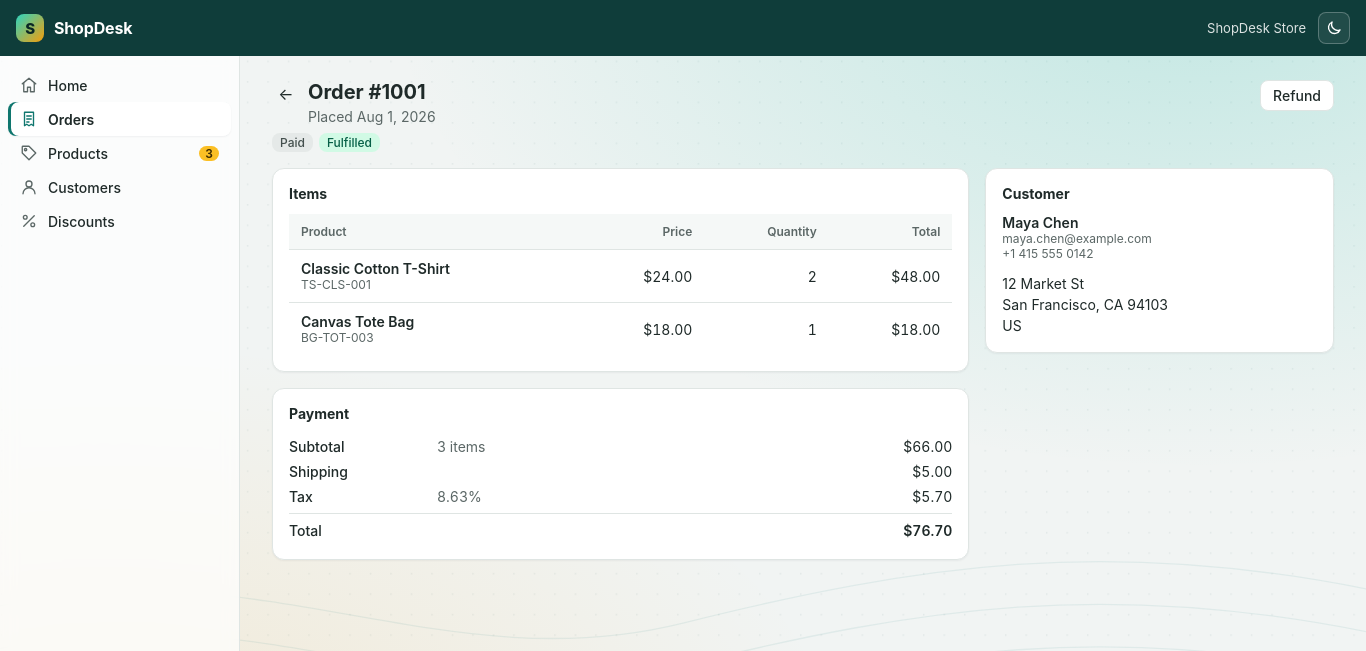
Test: refunding an order › blocks refunding more items than were ordered
Click the button "Refund" at (1297, 96), box [1260, 80, 1334, 111]
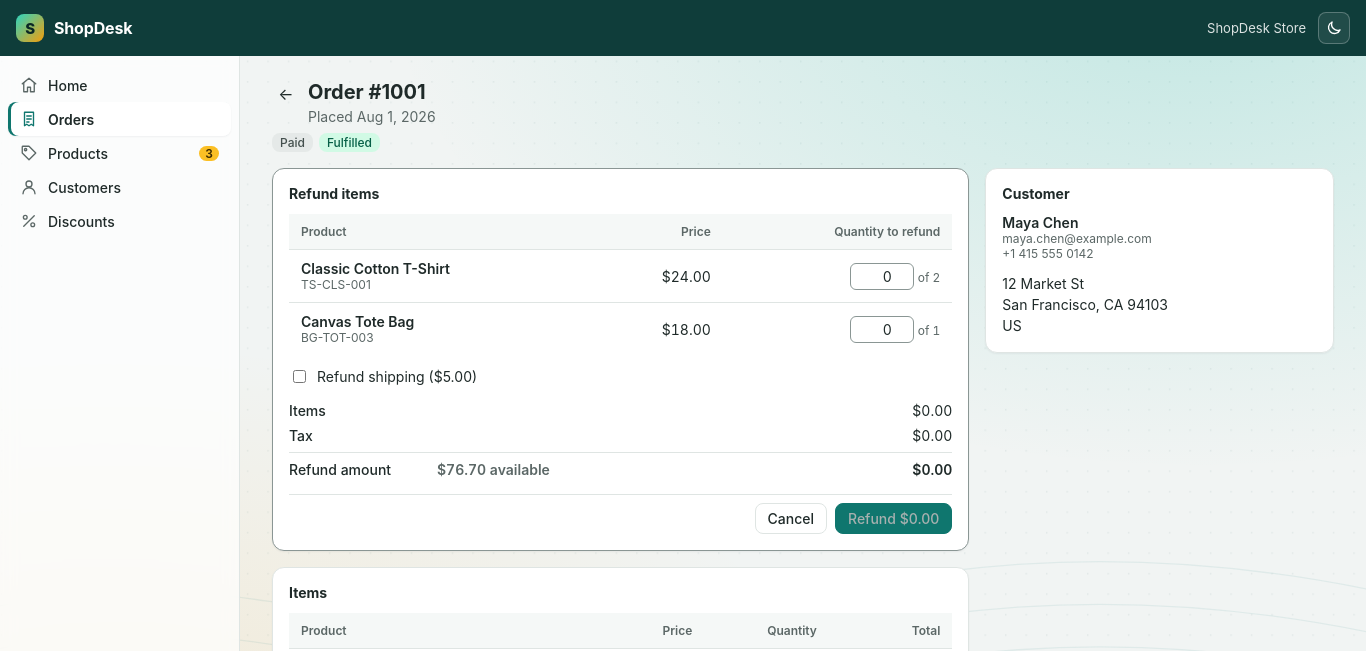
Replace the text in the number field named "Quantity of Canvas Tote Bag to refund" with "2" at (882, 329), box [850, 316, 914, 342]
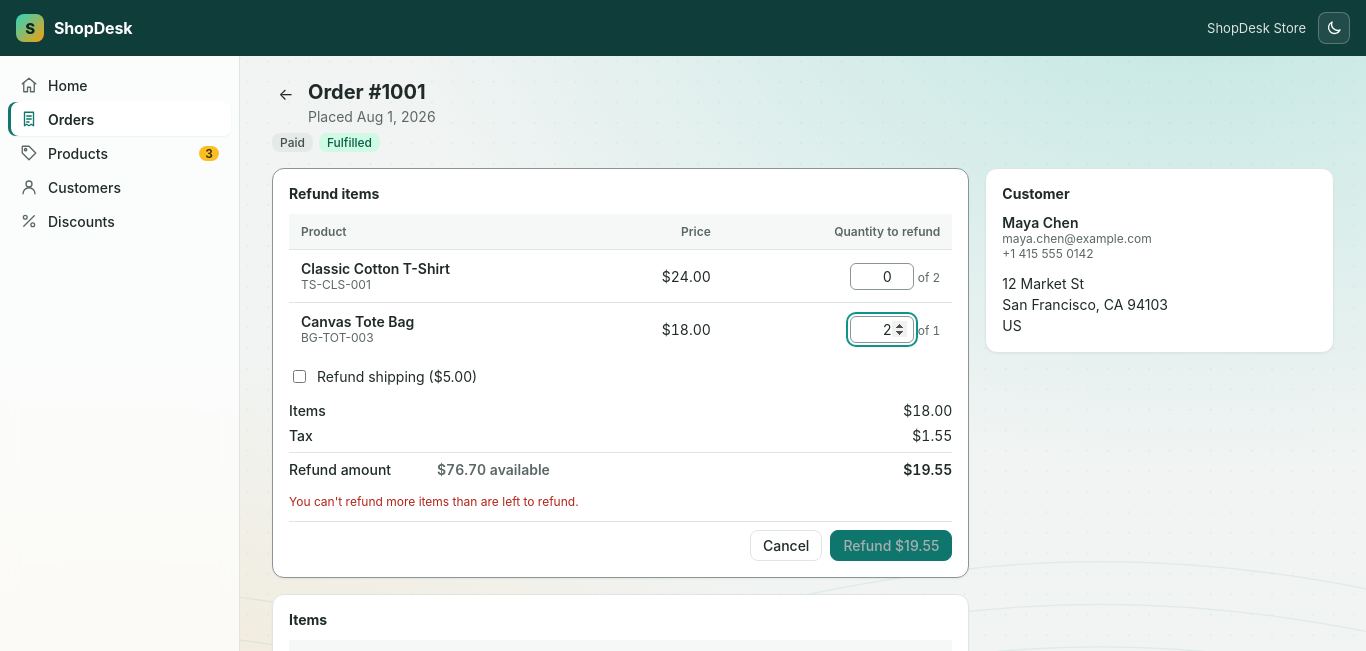
Expected: the button "Refund $19.55" is disabled, [830, 530, 952, 561]
Expected: the message reads "You can't refund more items than are left to refund.", [289, 494, 579, 509]
